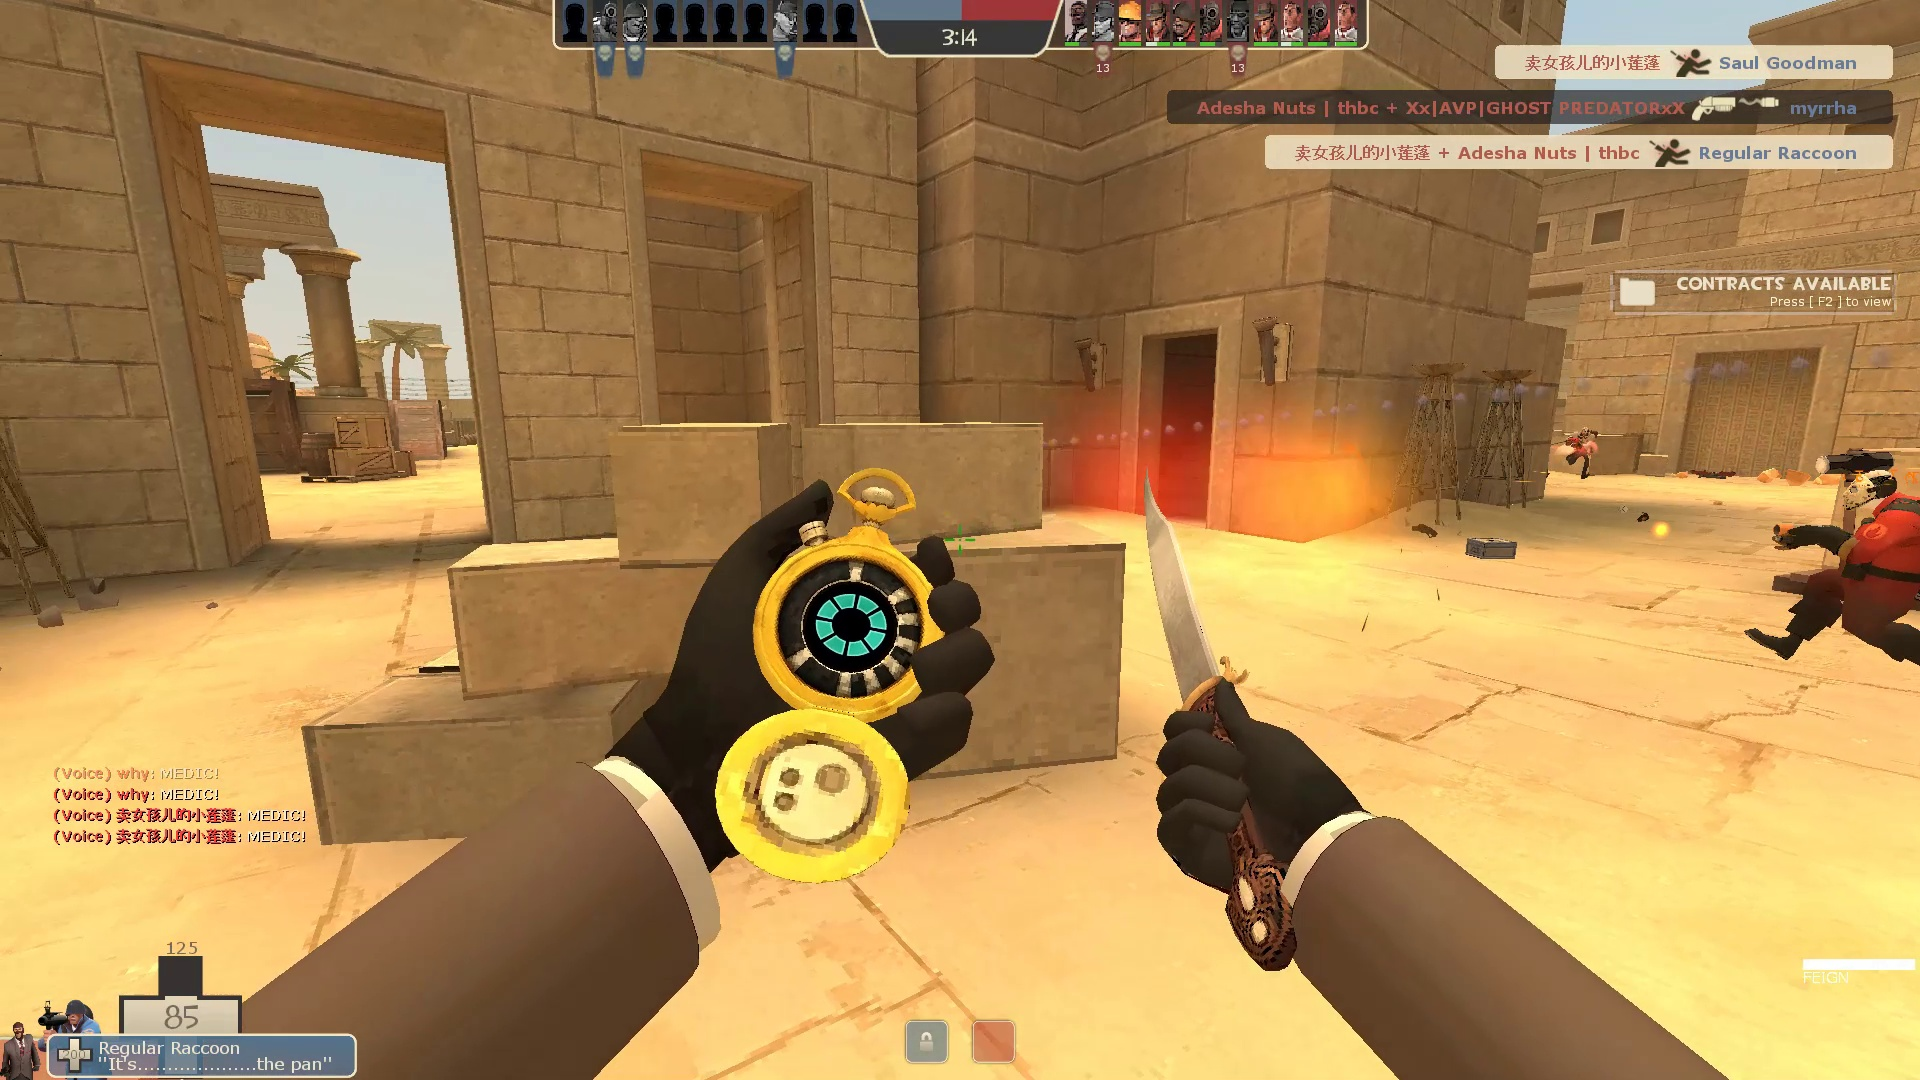red_medic: (1548, 423, 1604, 481)
red_pyro: (1741, 463, 1920, 687)
